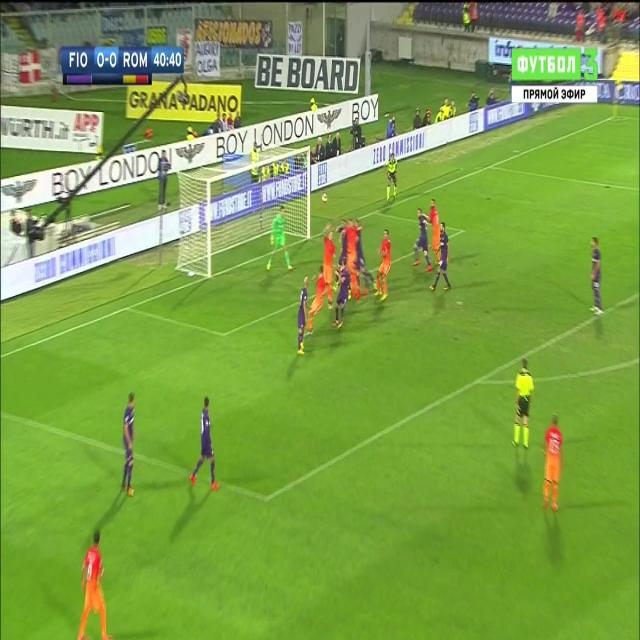Ball: (320, 191, 330, 205)
Goalkeeper: (264, 203, 296, 276)
Player: (76, 527, 115, 638), (185, 393, 223, 492), (539, 413, 565, 519), (118, 389, 138, 498), (428, 221, 452, 295), (588, 230, 607, 321), (373, 230, 394, 311), (331, 260, 351, 336), (342, 219, 361, 297), (320, 222, 336, 311), (294, 276, 311, 358), (412, 206, 432, 274), (307, 264, 325, 339), (428, 193, 440, 260)
Referee: (510, 355, 536, 456), (384, 148, 398, 208)
